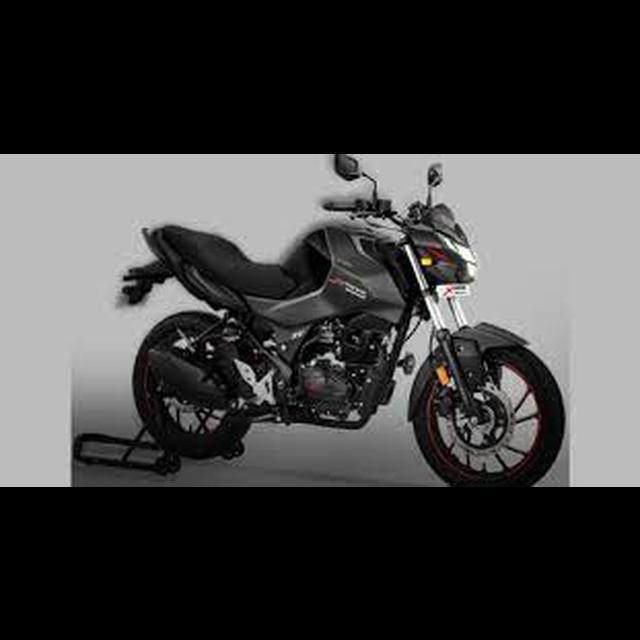motorcycle: (117, 153, 570, 490)
